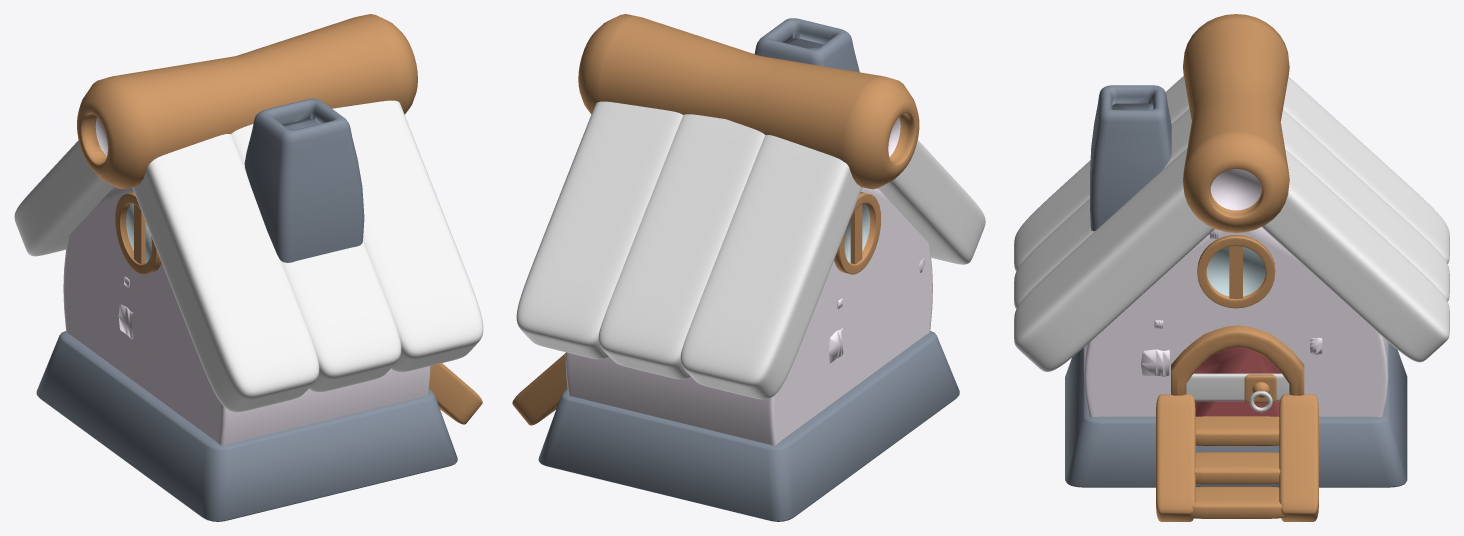
File: Haus.001-Weiß.fbx
3 renders of one model, left to right at view 1: azimuth 30°, elevation 25°; view 2: azimuth 150°, elevation 25°; view 3: azimuth 270°, elevation 25°, orthographic. The views are drawn at different scales.
Parts seen in each view (by area): view 1: Haus1; view 2: Haus1; view 3: Haus1.
Part boxes in pixels (box(x1,y1,x2,y2)): Haus1: box(14, 14, 483, 521); Haus1: box(512, 14, 985, 521); Haus1: box(1014, 14, 1449, 521).
Size of the model in its own units: 297 by 317 by 342.
